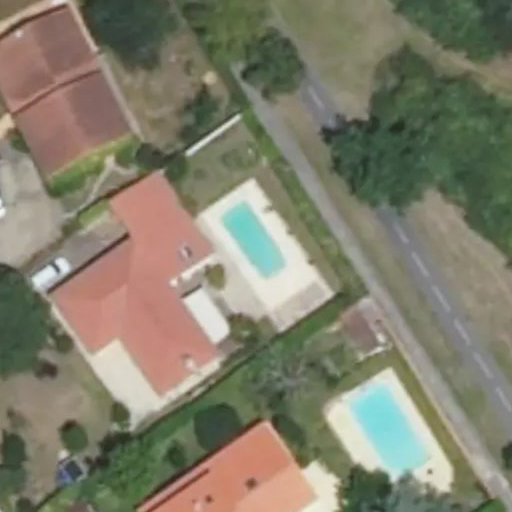pool: (218, 217, 293, 266)
